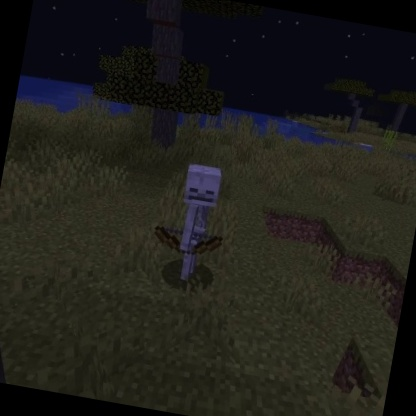skeleton: (143, 154, 240, 290)
